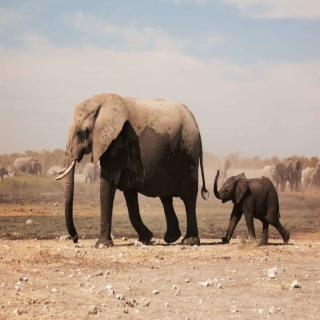Elephant: (54, 78, 210, 252), (209, 163, 298, 259)
